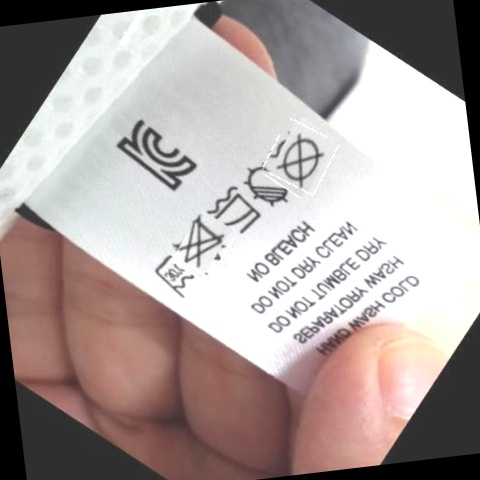30C: (150, 252, 192, 300)
DN_bleach: (176, 216, 223, 265)
DN_dry_clean: (272, 125, 326, 185)
iron: (215, 187, 259, 237)
shade_dry: (241, 159, 291, 209)
